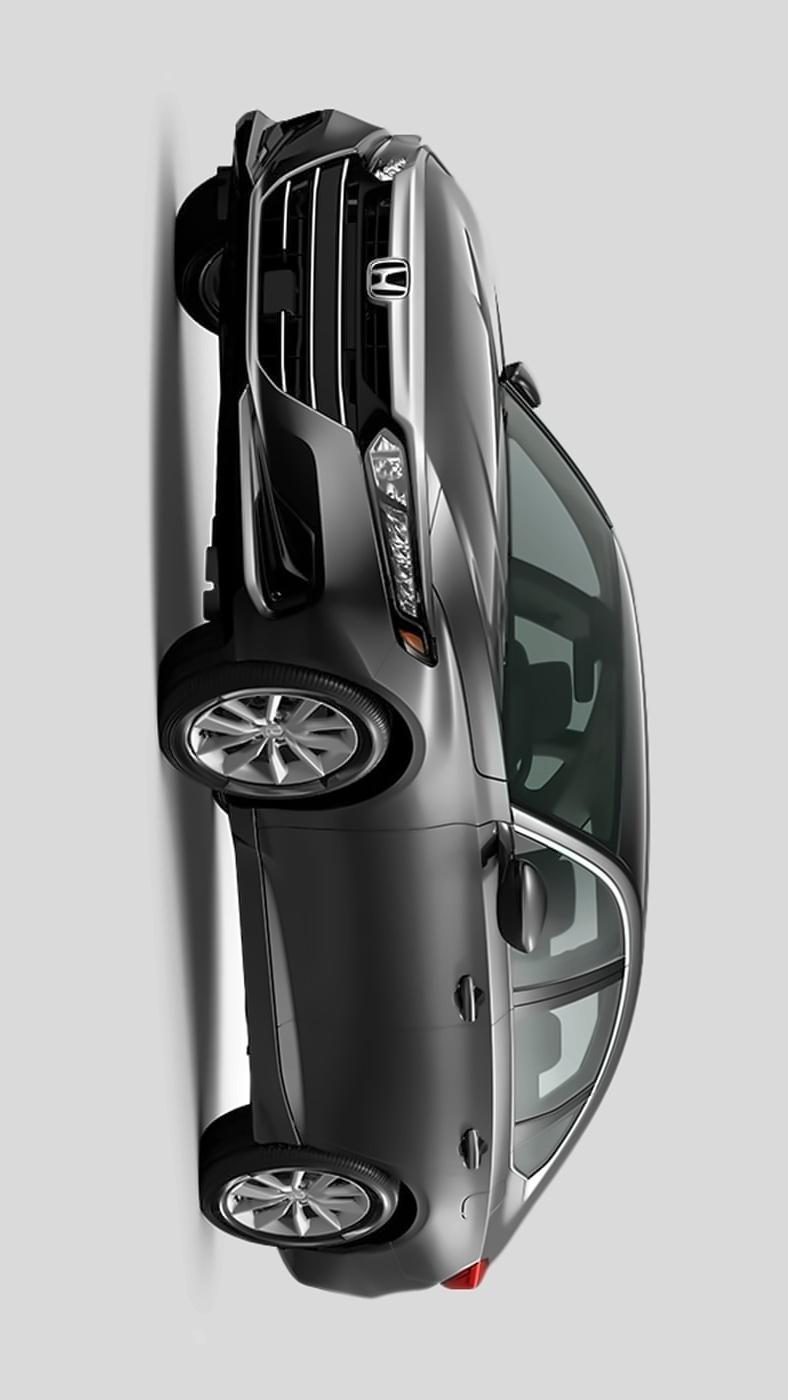Car hood: (400, 133, 521, 785)
Fender - -F-L-: (245, 585, 525, 830)
Fender - -R-L-: (258, 1145, 514, 1261)
Front bumper: (190, 98, 371, 716)
Headlight - -L-: (348, 403, 453, 680)
Headlight - -R-: (363, 115, 441, 192)
Passenger-s door - -F-L-: (253, 833, 637, 1028)
Passenger-s door - -R-L-: (265, 1025, 628, 1177)
Rear bumper: (270, 1230, 400, 1343)
Rear light - -L-: (433, 1250, 500, 1316)
Side bumper - -L-: (218, 788, 314, 1159)
Side mirror - -L-: (475, 833, 566, 964)
Side mirror - -R-: (486, 349, 566, 428)
